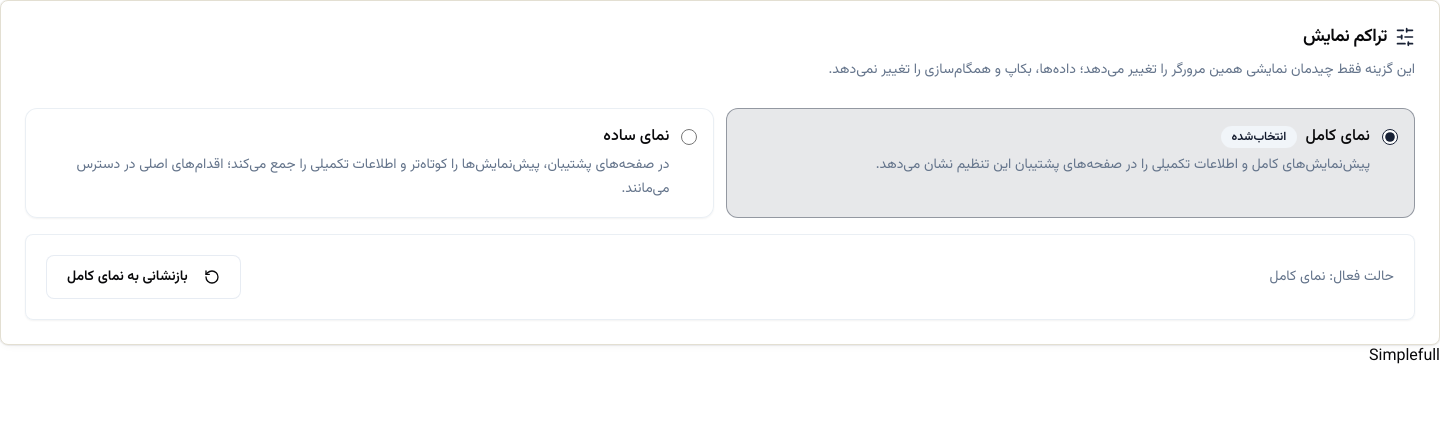
Test case: Density persistence feedback › reports failed save and reset in the existing density control, then retries (fa)
The width and height of the screenshot is (1452, 421).
Click the radio button named "viewDensityMode".
click(689, 137)  # box [681, 129, 697, 145]
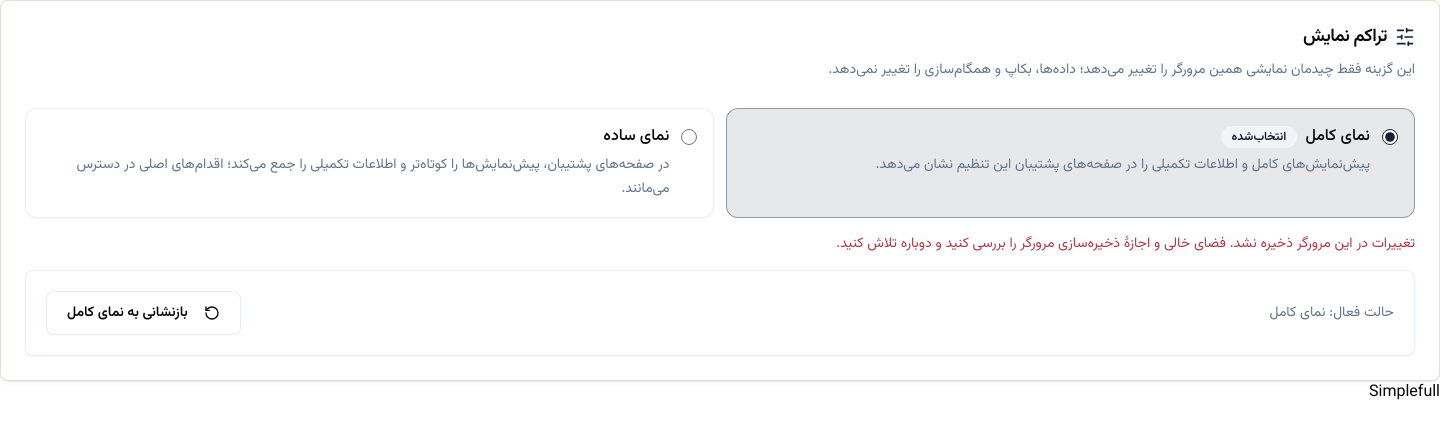
Check: the text "full" is shown, box [1418, 380, 1440, 405]
Check: the message shows "تغییرات در این مرورگر ذخیره نشد. فضای خالی و اجازهٔ ذخیره‌سازی مرورگر را بررسی کنید و دوباره تلاش کنید.", box [836, 233, 1415, 255]
Click the radio button named "viewDensityMode".
click(689, 137)  # box [681, 129, 697, 145]
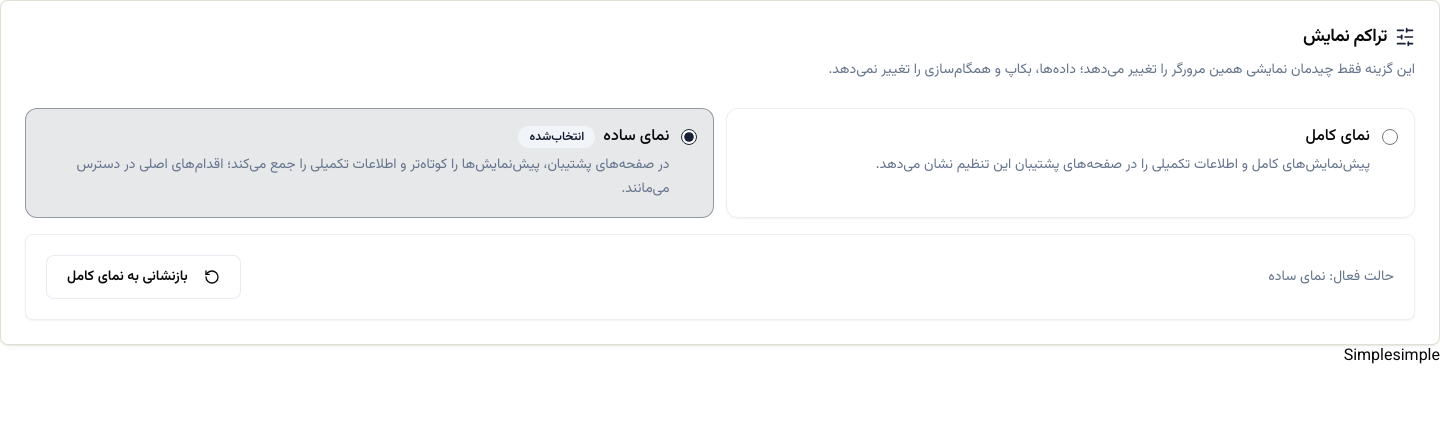
Check: the text "simple" is shown, box [1392, 344, 1440, 369]
Check: the message is gone
Click the button "بازنشانی به نمای کامل".
click(143, 277)  # box [46, 255, 241, 299]
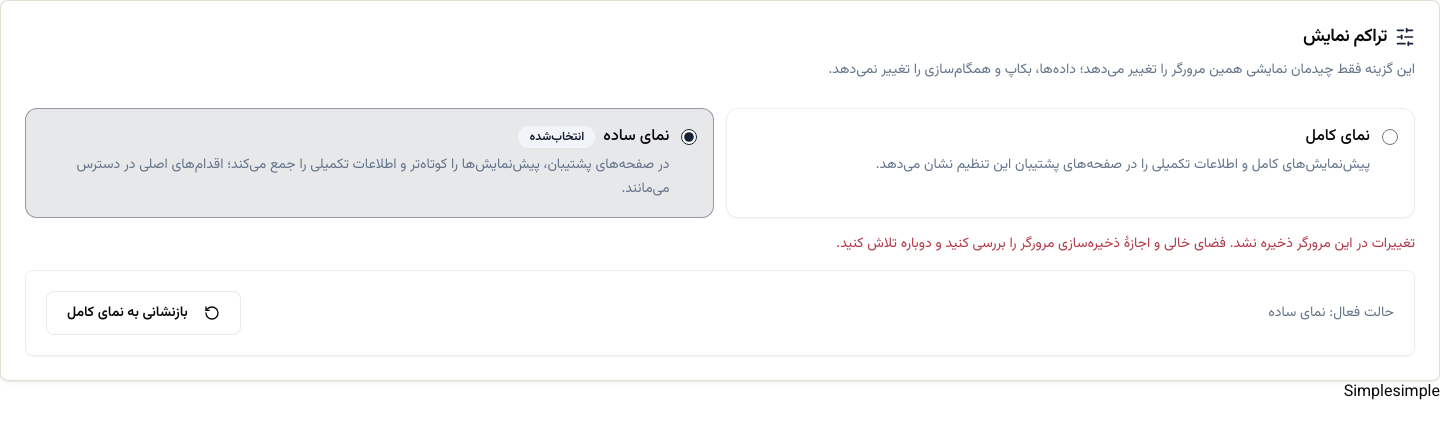
Check: the text "simple" is shown, box [1392, 380, 1440, 405]
Check: the message shows "تغییرات در این مرورگر ذخیره نشد. فضای خالی و اجازهٔ ذخیره‌سازی مرورگر را بررسی کنید و دوباره تلاش کنید.", box [836, 233, 1415, 255]
Click the button "بازنشانی به نمای کامل".
click(143, 313)  # box [46, 291, 241, 335]
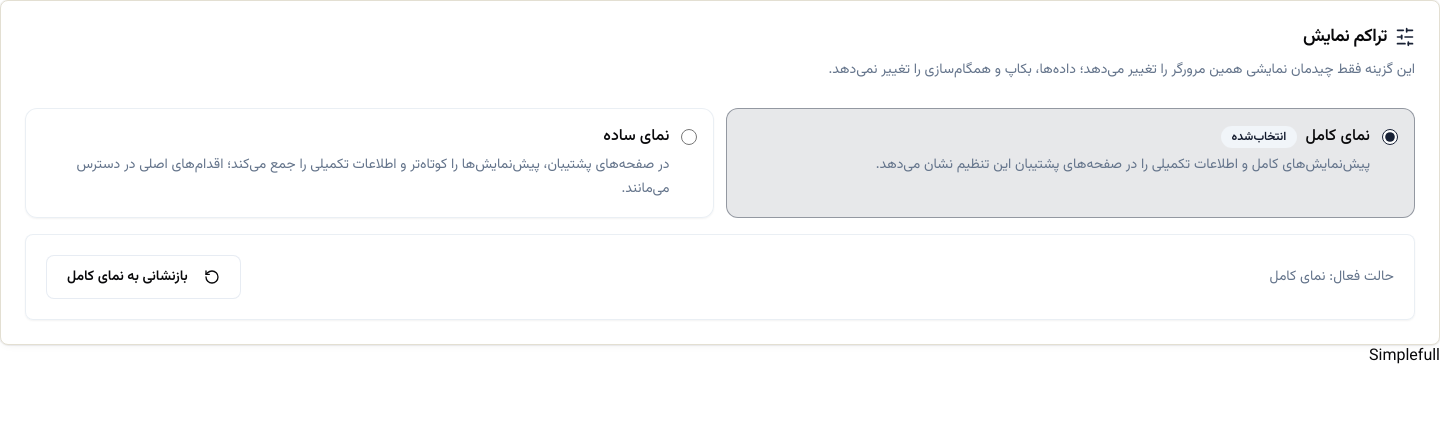
Check: the text "full" is shown, box [1418, 344, 1440, 369]
Check: the message is gone
